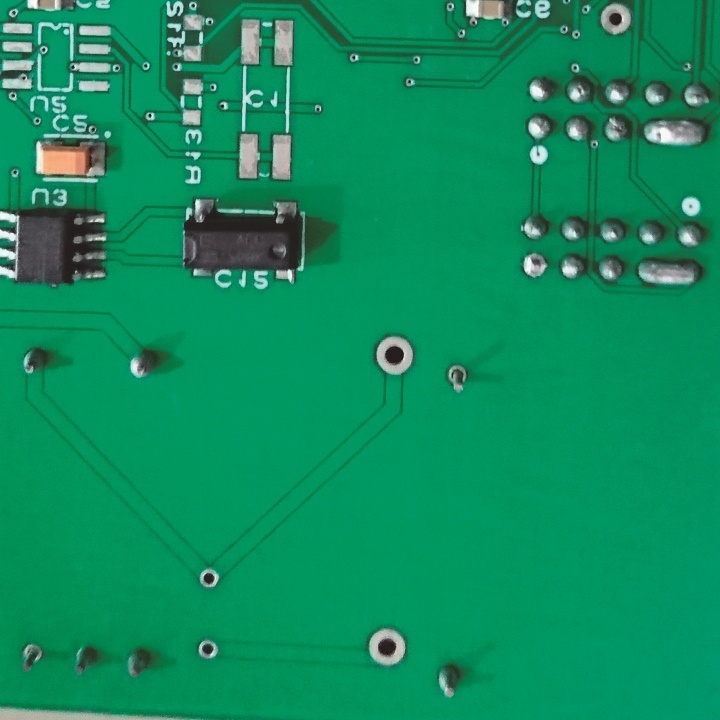F: (372, 330, 416, 378), (365, 626, 408, 673), (599, 1, 630, 44), (519, 250, 548, 283), (442, 363, 467, 398), (19, 640, 44, 670), (198, 563, 220, 590), (193, 637, 218, 660)
P: (631, 254, 705, 292), (640, 116, 713, 152)
